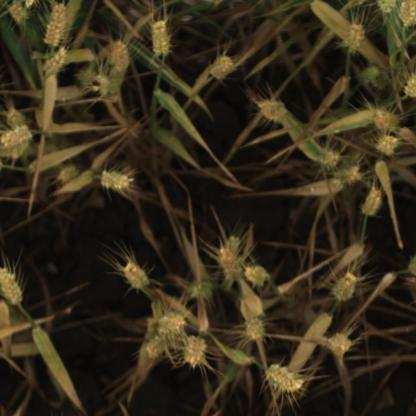whd: (42, 2, 70, 52), (260, 364, 304, 395), (118, 258, 152, 292), (0, 263, 26, 306), (252, 94, 288, 124), (182, 332, 209, 370), (215, 247, 243, 283), (96, 166, 133, 193), (329, 271, 360, 303), (154, 310, 192, 336), (38, 46, 67, 80), (149, 19, 174, 58), (343, 19, 368, 55), (208, 52, 238, 82), (371, 130, 403, 158), (314, 142, 343, 172), (368, 106, 401, 132), (108, 38, 133, 72), (325, 331, 355, 359), (360, 187, 385, 220), (243, 315, 271, 344), (143, 332, 169, 363), (184, 277, 217, 301), (1, 126, 34, 149), (337, 162, 367, 187), (244, 264, 274, 289), (357, 59, 384, 86), (74, 62, 99, 90), (220, 232, 243, 260), (55, 161, 80, 186), (87, 74, 112, 99), (7, 0, 30, 26), (396, 0, 416, 28), (6, 107, 29, 131), (9, 140, 32, 160), (401, 72, 414, 100)
